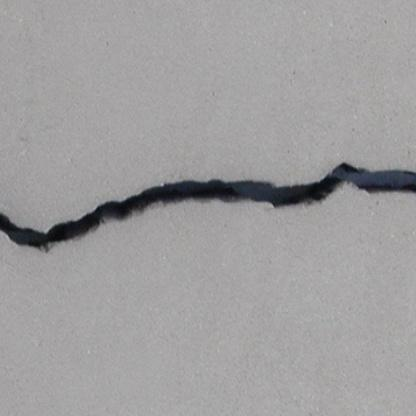Cracks: (0, 159, 416, 258)
